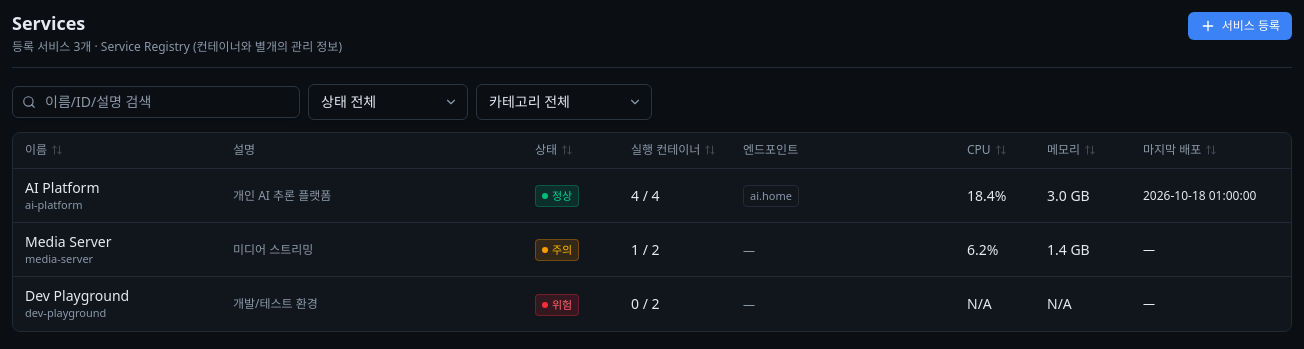
Services 페이지 › 상태 필터를 적용하면 해당 상태만 남는다
This screenshot has width=1304, height=349.
Check: the text "AI Platform" is shown, box top-left (25, 178), bottom-right (100, 197)
Select "주의 (WARN)" in the dropdown named "상태 필터" at (388, 102), box top-left (308, 84), bottom-right (468, 120)
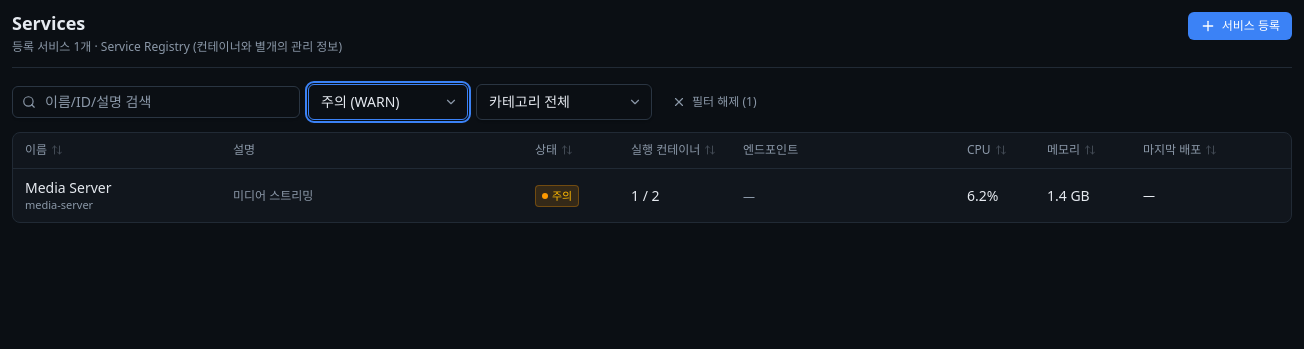
Check: the text "Media Server" is shown, box top-left (25, 178), bottom-right (112, 197)
Check: the link "AI Platform" is gone
Check: the link "Dev Playground" is gone
